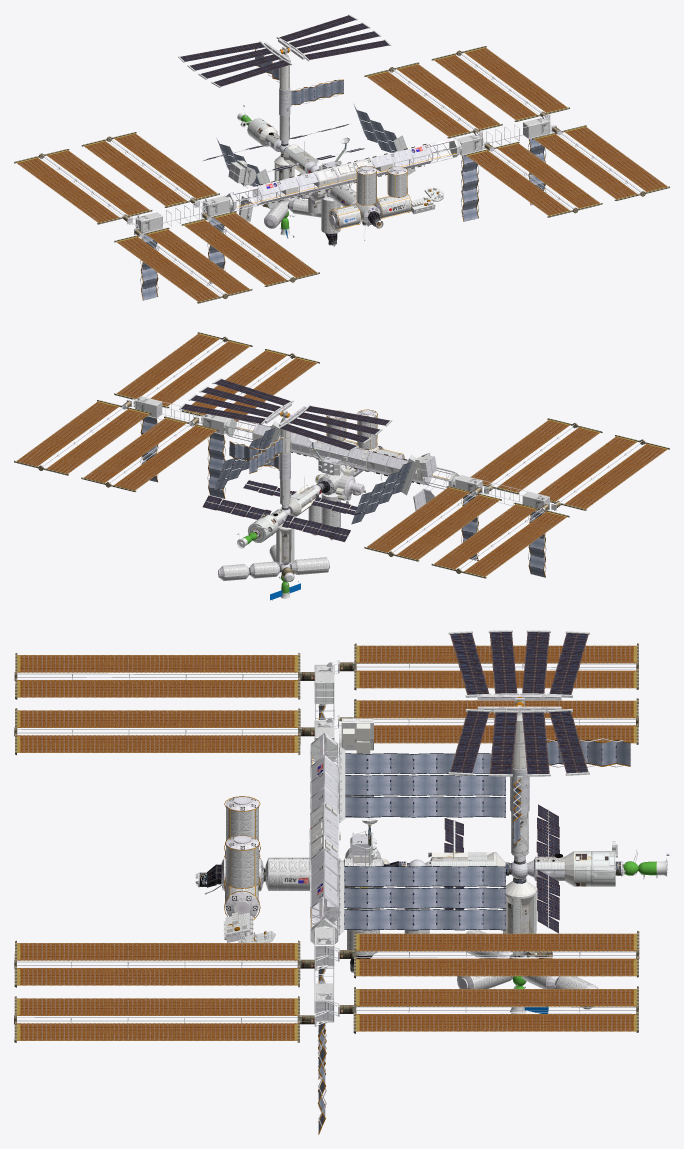
The model's file is CO_ISS.glb.
The picture shows the model from 3 angles, top to bottom: view 1: azimuth 30°, elevation 25°; view 2: azimuth 150°, elevation 25°; view 3: azimuth 270°, elevation 25°; orthographic projection. The views are drawn at different scales.
Parts seen in each view (by area): view 1: iss_issbso, iss_issbs0, iss_issmod, iss_isssol, iss_issrad, iss_isspan, iss_issb3_, iss_isscov, iss_metalc, iss_issco0, iss_issp2_, iss_issdis (+1 smaller); view 2: iss_issbso, iss_issbs0, iss_isssol, iss_issmod, iss_issrad, iss_isspan, iss_issb3_, iss_isscov, iss_metalc, iss_issco0, iss_issp2_, iss_issdis (+3 smaller); view 3: iss_issbso, iss_issbs0, iss_issrad, iss_issmod, iss_isssol, iss_isscov, iss_isspan, iss_issb3_, iss_issp2_, iss_metalc, iss_issco0, iss_isszmo (+3 smaller).
Part boxes in pixels (x1=…): iss_issbso: x1=16, y1=47, x2=667, y2=301; iss_issbs0: x1=44, y1=67, x2=640, y2=282; iss_issmod: x1=40, y1=39, x2=641, y2=296; iss_isssol: x1=180, y1=15, x2=389, y2=175; iss_issrad: x1=141, y1=49, x2=545, y2=300; iss_isspan: x1=204, y1=125, x2=411, y2=233; iss_issb3_: x1=136, y1=47, x2=545, y2=230; iss_isscov: x1=128, y1=14, x2=555, y2=233; iss_metalc: x1=14, y1=46, x2=669, y2=303; iss_issco0: x1=136, y1=115, x2=549, y2=232; iss_issp2_: x1=239, y1=53, x2=443, y2=213; iss_issdis: x1=140, y1=47, x2=545, y2=300; iss_issbso: x1=16, y1=333, x2=667, y2=576; iss_issbs0: x1=43, y1=353, x2=640, y2=556; iss_isssol: x1=181, y1=379, x2=389, y2=541; iss_issmod: x1=42, y1=338, x2=643, y2=582; iss_issrad: x1=141, y1=416, x2=545, y2=577; iss_isspan: x1=205, y1=414, x2=400, y2=580; iss_issb3_: x1=137, y1=397, x2=549, y2=572; iss_isscov: x1=128, y1=378, x2=555, y2=581; iss_metalc: x1=14, y1=332, x2=669, y2=579; iss_issco0: x1=135, y1=396, x2=548, y2=513; iss_issp2_: x1=254, y1=417, x2=422, y2=535; iss_issdis: x1=140, y1=409, x2=545, y2=577; iss_issbso: x1=16, y1=645, x2=636, y2=1040; iss_issbs0: x1=110, y1=645, x2=543, y2=1040; iss_issrad: x1=318, y1=704, x2=630, y2=1132; iss_issmod: x1=17, y1=660, x2=636, y2=1126; iss_isssol: x1=444, y1=632, x2=588, y2=933; iss_isscov: x1=225, y1=630, x2=615, y2=1026; iss_isspan: x1=224, y1=804, x2=595, y2=1008; iss_issb3_: x1=311, y1=662, x2=564, y2=1021; iss_issp2_: x1=223, y1=712, x2=579, y2=957; iss_metalc: x1=14, y1=643, x2=639, y2=1042; iss_issco0: x1=315, y1=665, x2=528, y2=1000; iss_isszmo: x1=574, y1=851, x2=615, y2=886.
Size of the model in its own units: 14.39 by 5.42 by 10.22.
Materials: 46 (39 with a texture image).
